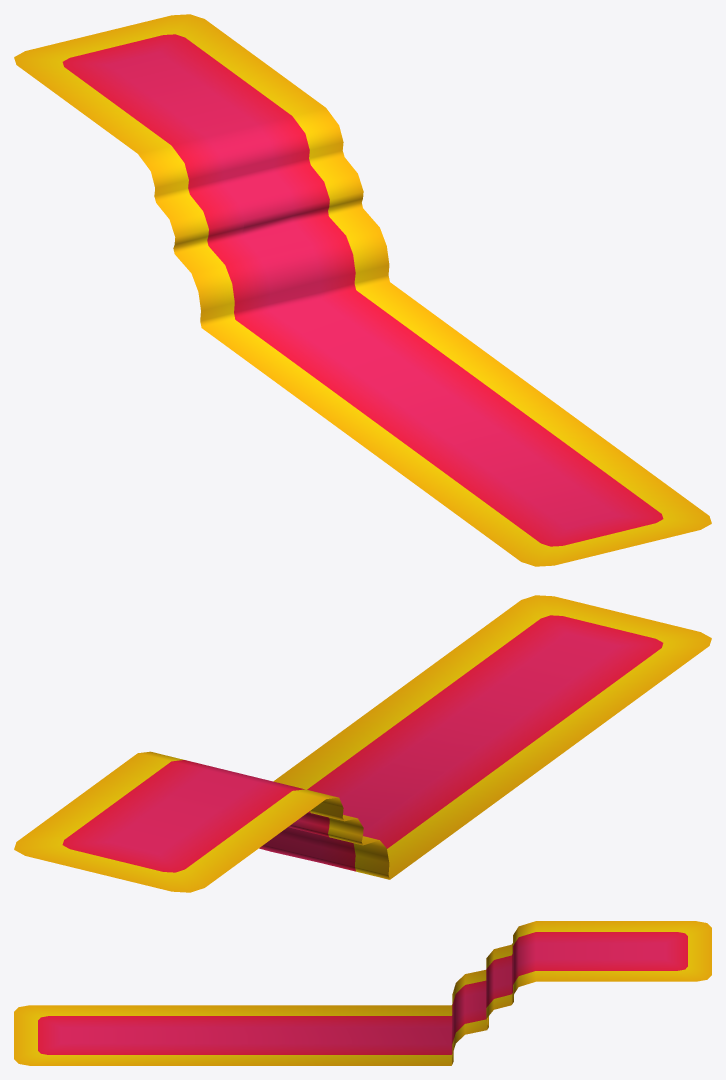
Rendered from Carpet_02.glb.
3 renders of one model, top to bottom at view 1: azimuth 30°, elevation 25°; view 2: azimuth 150°, elevation 25°; view 3: azimuth 270°, elevation 25°, orthographic. The views are drawn at different scales.
Parts seen in each view (by area): view 1: Carpet_02; view 2: Carpet_02; view 3: Carpet_02.
Boxes of the visible parts, bbox=[...] form: Carpet_02: bbox=[14, 14, 711, 566]; Carpet_02: bbox=[14, 595, 711, 892]; Carpet_02: bbox=[14, 921, 711, 1065].
Size of the model in its own units: 2.71 by 1.77 by 13.2.
1 material, 1 textured.
